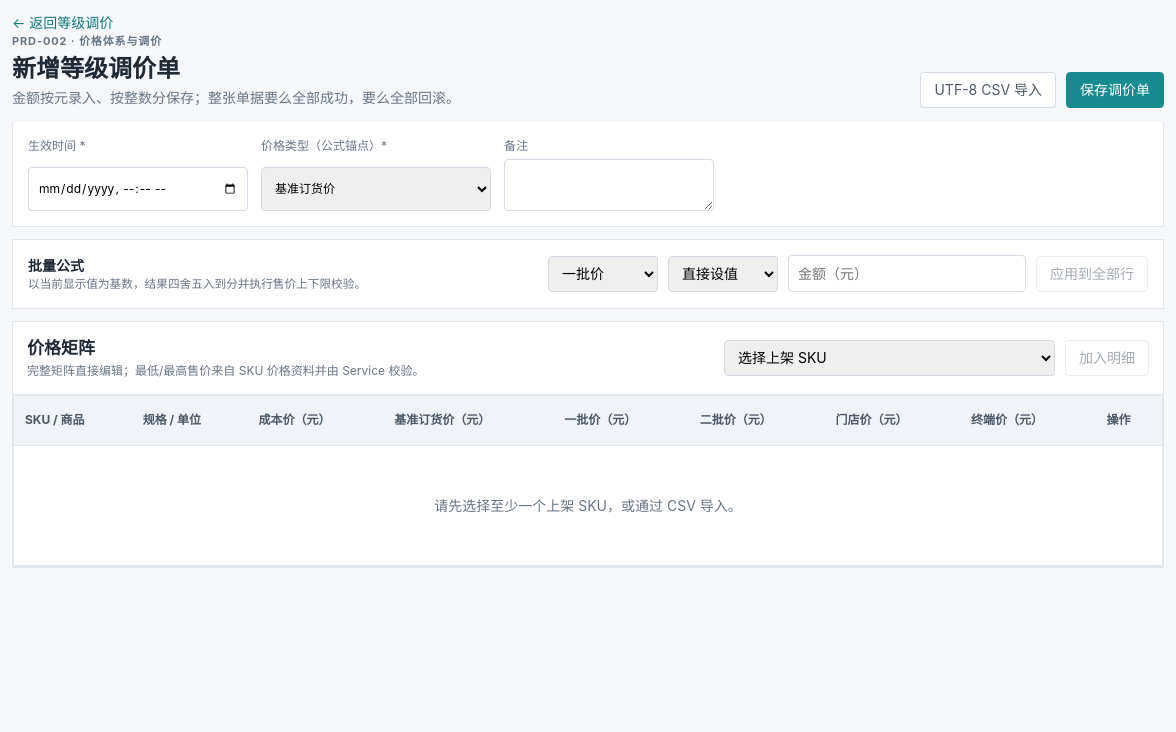
PRD-002 adjustment workflow views › adds a source-backed SKU and exposes the full level price matrix
Select "SKU-000001 · 演示基础商品 · 默认：默认规格" in the dropdown named "选择上架 SKU" at (890, 358), box [724, 340, 1055, 376]
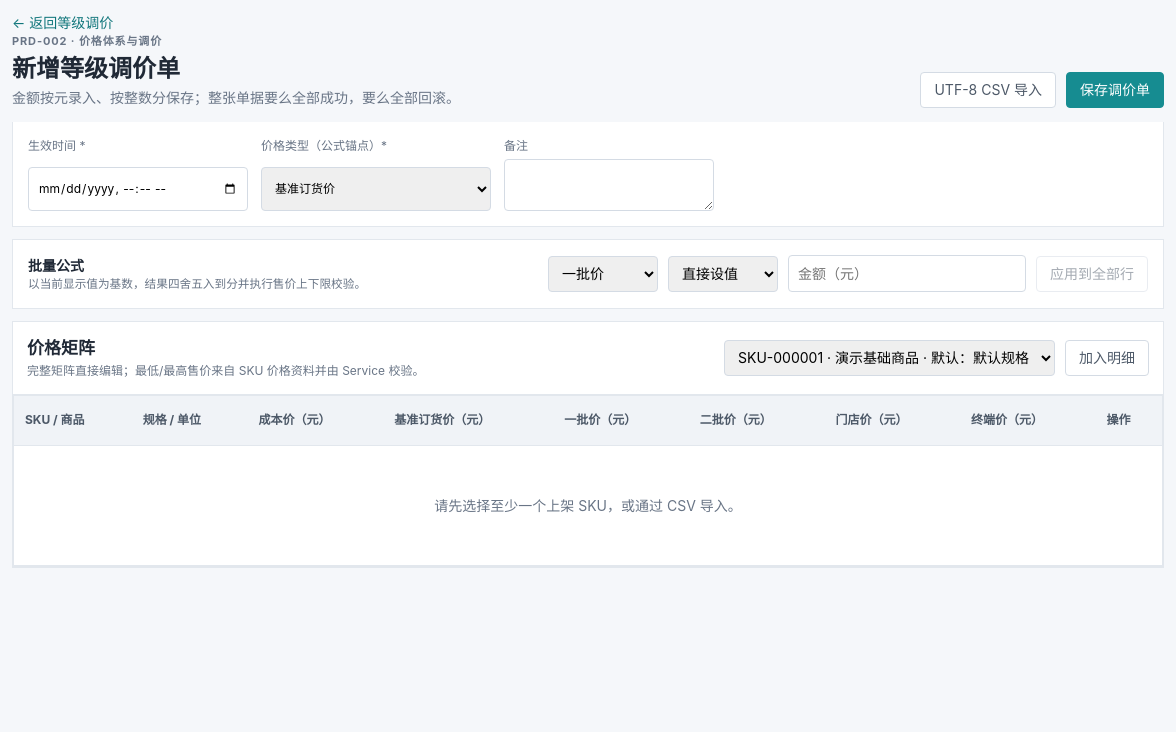
Click the button "加入明细" at (1107, 358), box [1065, 340, 1149, 376]
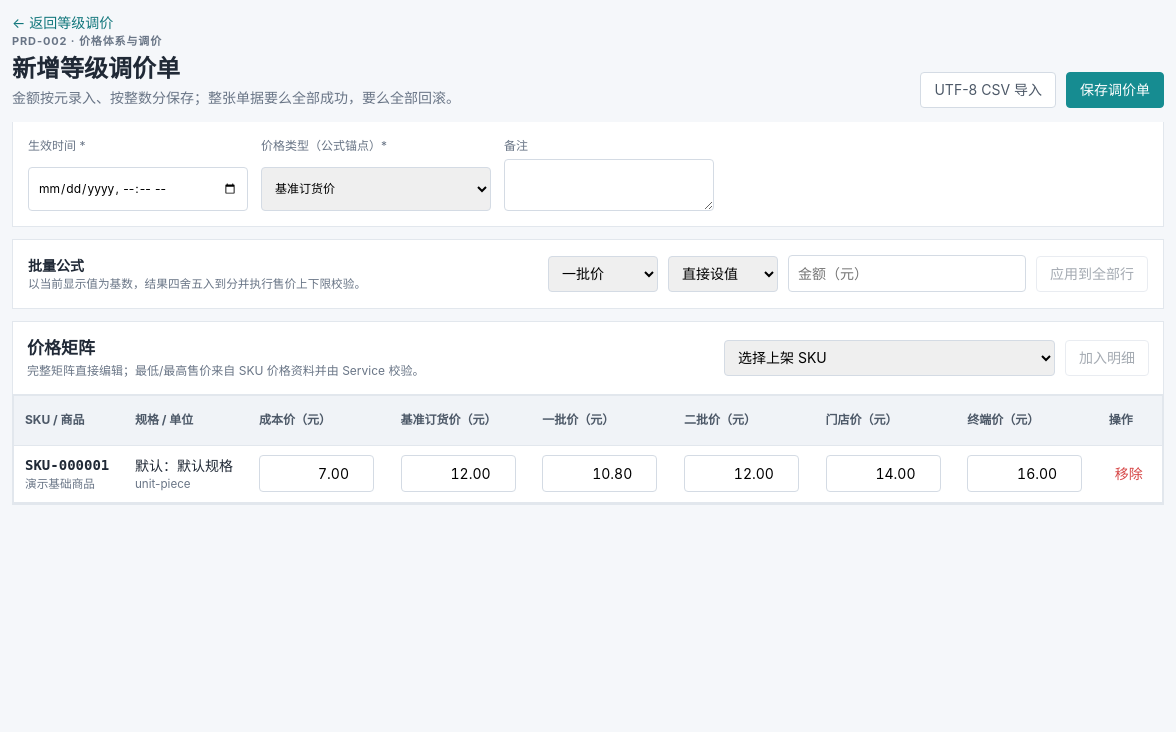
Check: the text "成本价（元）" is shown, box [248, 395, 390, 445]
Check: the text "SKU-000001" is shown, box [25, 455, 113, 476]
